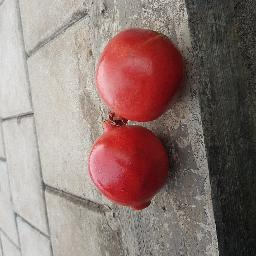Good_pomegranate: (80, 127, 189, 214), (93, 27, 186, 124)
